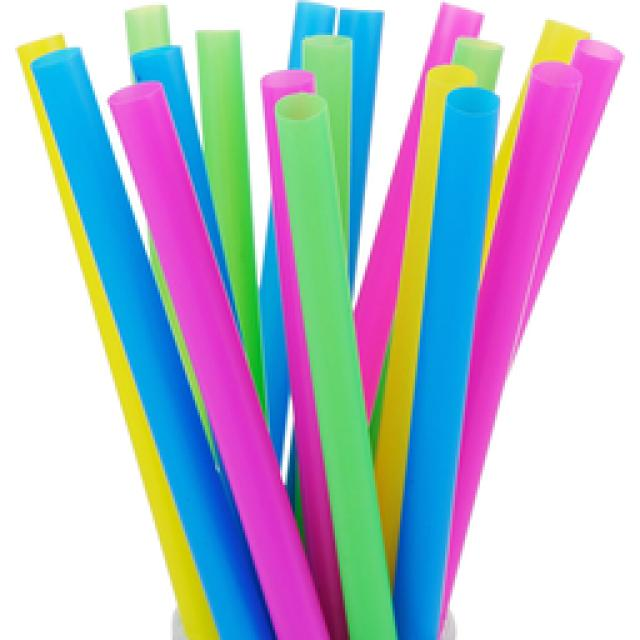plastic: (13, 0, 625, 638), (268, 88, 400, 638)
